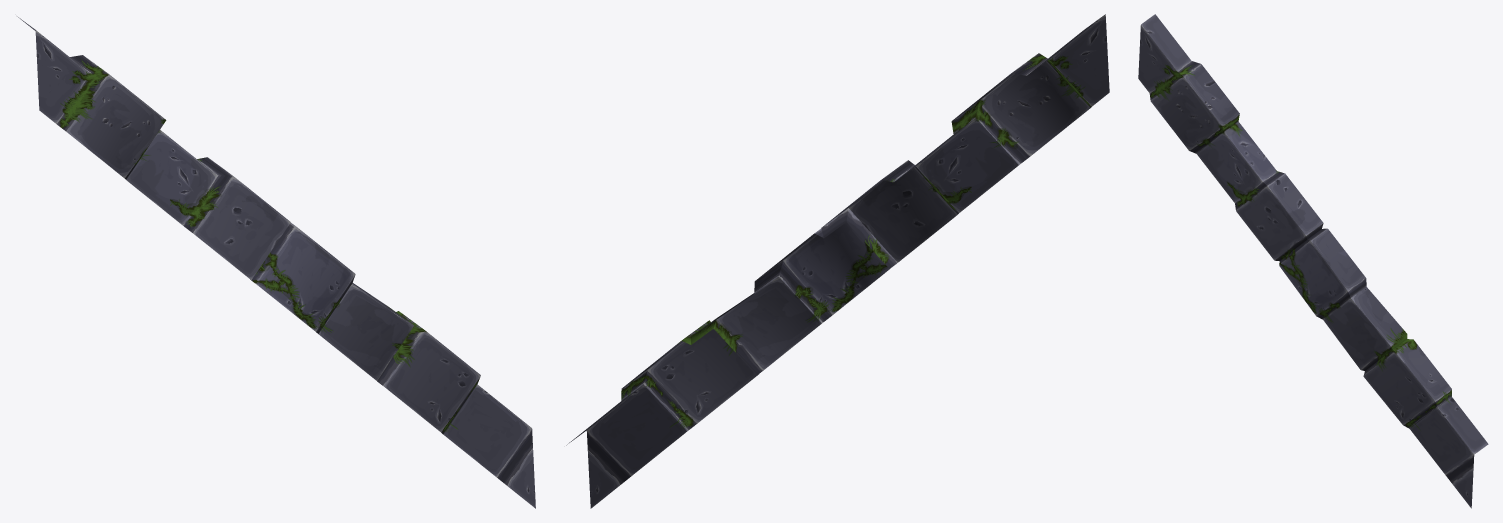
The model's file is MOD_Stairs_01_WallTrim_L_1.fbx.
3 renders of one model, left to right at view 1: azimuth 30°, elevation 25°; view 2: azimuth 150°, elevation 25°; view 3: azimuth 330°, elevation 25°, orthographic. The views are drawn at different scales.
Visible parts, largest first — view 1: MOD_Stairs_01_WallTrim_L_1; view 2: MOD_Stairs_01_WallTrim_L_1; view 3: MOD_Stairs_01_WallTrim_L_1.
Part boxes in pixels (x1=…): MOD_Stairs_01_WallTrim_L_1: x1=17, y1=16, x2=535, y2=508; MOD_Stairs_01_WallTrim_L_1: x1=566, y1=14, x2=1109, y2=508; MOD_Stairs_01_WallTrim_L_1: x1=1138, y1=14, x2=1488, y2=508.
Size of the model in its own units: 400 by 460 by 43.41.
